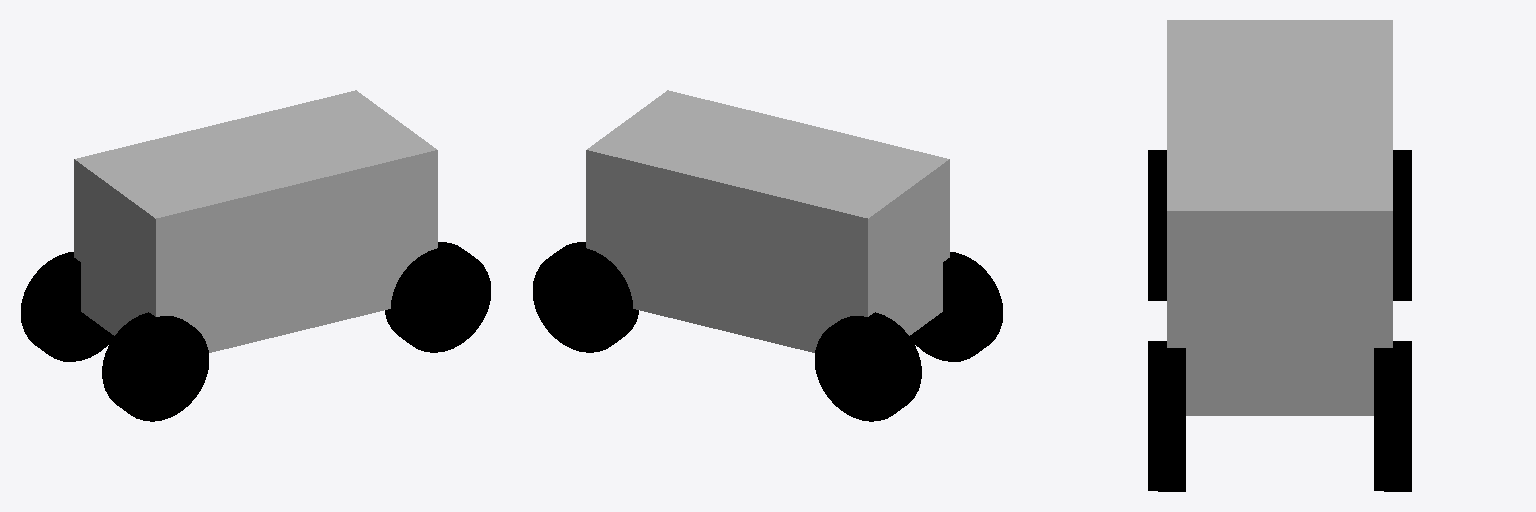
robot.urdf — golf:
<?xml version="1.0"?>
<robot name="golf">
  <link name="base_link">
    <visual>
      <geometry>
        <box size="0.6 0.3 0.3"/>
      </geometry>
      <origin rpy="0 0 0" xyz="0 0 0.25"/>
      <material name="silver">
        <color rgba="0.75 0.75 0.75 1"/>
      </material>
    </visual>
    <collision>
      <geometry>
        <box size="0.6 0.3 0.3"/>
      </geometry>
    </collision>

    <inertial>
      <mass value="1.0"/>
      <inertia ixx="0.015" iyy="0.0375" izz="0.0375"
               ixy="0" ixz="0" iyz="0"/>
    </inertial>
  </link>

  <link name="front_right_wheel">
    <visual>
      <geometry>
        <cylinder radius="0.1" length="0.05"/>
      </geometry>
      <material name="black">
        <color rgba="0 0 0 1"/>
      </material>
    </visual>
    <collision>
      <geometry>
        <cylinder radius="0.1" length="0.05"/>
      </geometry>
    </collision>

    <inertial>
      <mass value="0.1"/>
      <inertia ixx="0.00083" iyy="0.00083" izz="0.000167"
               ixy="0" ixz="0" iyz="0"/>
    </inertial>
  </link>

<joint name="front_right_wheel_joint" type="revolute">
  <limit effort="30" velocity="1.0" lower="-0.785" upper="0.785"/>
  <axis xyz="0 1 0"/>
  <parent link="base_link"/>
  <child link="front_right_wheel"/>
  <origin rpy="1.57 0 0" xyz="0.3 -0.15 0.1"/>
</joint>

<link name="front_left_wheel">
  <visual>
    <geometry>
      <cylinder radius="0.1" length="0.05"/>
    </geometry>
    <material name="black">
      <color rgba="0 0 0 1"/>
    </material>
  </visual>
    <collision>
      <geometry>
        <cylinder radius="0.1" length="0.05"/>
      </geometry>
    </collision>

    <inertial>
      <mass value="0.1"/>
      <inertia ixx="0.00083" iyy="0.00083" izz="0.000167"
               ixy="0" ixz="0" iyz="0"/>
    </inertial>
</link>

<joint name="front_left_wheel_joint" type="revolute">
  <limit effort="30" velocity="1.0" lower="-0.785" upper="0.785"/>
  <axis xyz="0 1 0"/>
  <parent link="base_link"/>
  <child link="front_left_wheel"/>
  <origin rpy="1.57 0 0" xyz="0.3 0.15 0.1"/>
</joint>

<link name="back_left_wheel">
  <visual>
    <geometry>
      <cylinder radius="0.1" length="0.05"/>
    </geometry>
    <material name="black">
      <color rgba="0 0 0 1"/>
    </material>
  </visual>
    <collision>
      <geometry>
        <cylinder radius="0.1" length="0.05"/>
      </geometry>
    </collision>

    <inertial>
      <mass value="0.1"/>
      <inertia ixx="0.00083" iyy="0.00083" izz="0.000167"
               ixy="0" ixz="0" iyz="0"/>
    </inertial>
</link>

<joint name="back_left_wheel_joint" type="fixed">
  <axis xyz="0 1 0"/>
  <parent link="base_link"/>
  <child link="back_left_wheel"/>
  <origin rpy="1.57 0 0" xyz="-0.3 0.15 0.1"/>
</joint>

<link name="back_right_wheel">
  <visual>
    <geometry>
      <cylinder radius="0.1" length="0.05"/>
    </geometry>
    <material name="black">
      <color rgba="0 0 0 1"/>
    </material>
  </visual>
    <collision>
      <geometry>
        <cylinder radius="0.1" length="0.05"/>
      </geometry>
    </collision>

    <inertial>
      <mass value="0.1"/>
      <inertia ixx="0.00083" iyy="0.00083" izz="0.000167"
               ixy="0" ixz="0" iyz="0"/>
    </inertial>
</link>

<joint name="back_right_wheel_joint" type="fixed">
  <axis xyz="0 1 0"/>
  <parent link="base_link"/>
  <child link="back_right_wheel"/>
  <origin rpy="1.57 0 0" xyz="-0.3 -0.15 0.1"/>
</joint>


 <gazebo>
    <plugin name="differential_drive_controller"
            filename="libgazebo_ros_diff_drive.so">
      <leftJoint>front_right_wheel_joint</leftJoint>
      <rightJoint>front_left_wheel_joint</rightJoint>
      <robotBaseFrame>base_link</robotBaseFrame>
      <wheelSeparation>0.25</wheelSeparation>
      <wheelDiameter>0.3</wheelDiameter>
      <publishWheelJointState>true</publishWheelJointState>
    </plugin>
  </gazebo>

</robot>

--- Render facts (derived) ---
3 views of the same robot in one strip: view 1: azimuth 30°, elevation 25°; view 2: azimuth 150°, elevation 25°; view 3: azimuth 270°, elevation 25° (orthographic).
Robot: golf — 5 links, 4 joints (2 revolute, 2 fixed); root link base_link; default pose: every joint at zero.
Visible links, largest first — view 1: base_link, back_right_wheel, front_right_wheel, back_left_wheel; view 2: base_link, back_left_wheel, front_left_wheel, back_right_wheel; view 3: base_link, front_right_wheel, front_left_wheel, back_left_wheel, back_right_wheel.
Boxes of the visible links, bbox=[...] form: base_link: bbox=[74, 90, 437, 352]; back_right_wheel: bbox=[102, 312, 208, 421]; front_right_wheel: bbox=[385, 242, 490, 352]; back_left_wheel: bbox=[21, 252, 113, 361]; base_link: bbox=[586, 90, 949, 352]; back_left_wheel: bbox=[815, 312, 921, 421]; front_left_wheel: bbox=[533, 242, 638, 352]; back_right_wheel: bbox=[910, 252, 1002, 361]; base_link: bbox=[1167, 20, 1392, 415]; front_right_wheel: bbox=[1148, 341, 1185, 491]; front_left_wheel: bbox=[1374, 341, 1411, 491]; back_left_wheel: bbox=[1393, 150, 1411, 300]; back_right_wheel: bbox=[1148, 150, 1166, 300].
Size in the robot's own frame: 0.8 by 0.3502 by 0.4 metres.
Geometry: primitives only (box / cylinder / sphere), no mesh files.